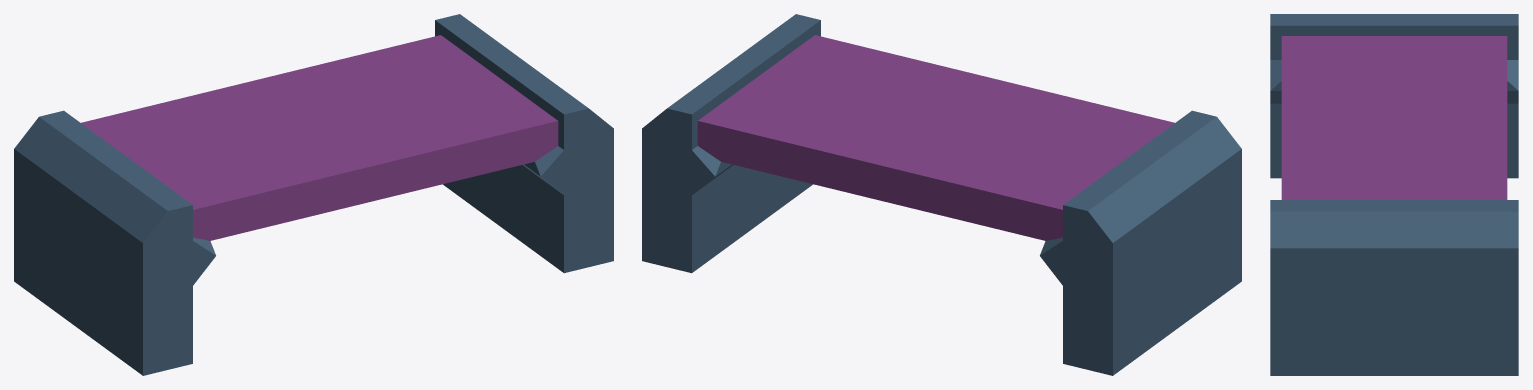
File: Bank.fbx
3 views of the same model, side by side, from view 1: azimuth 30°, elevation 25°; view 2: azimuth 150°, elevation 25°; view 3: azimuth 270°, elevation 25° (orthographic). The views are drawn at different scales.
Visible parts, largest first — view 1: Bank; view 2: Bank; view 3: Bank.
Part boxes in pixels (left/top/right/bottom): Bank: left=14, top=14, right=613, bottom=375; Bank: left=642, top=14, right=1241, bottom=375; Bank: left=1270, top=14, right=1518, bottom=375.
Bounding box in the file's own units: 172 × 55.31 × 81.47.
